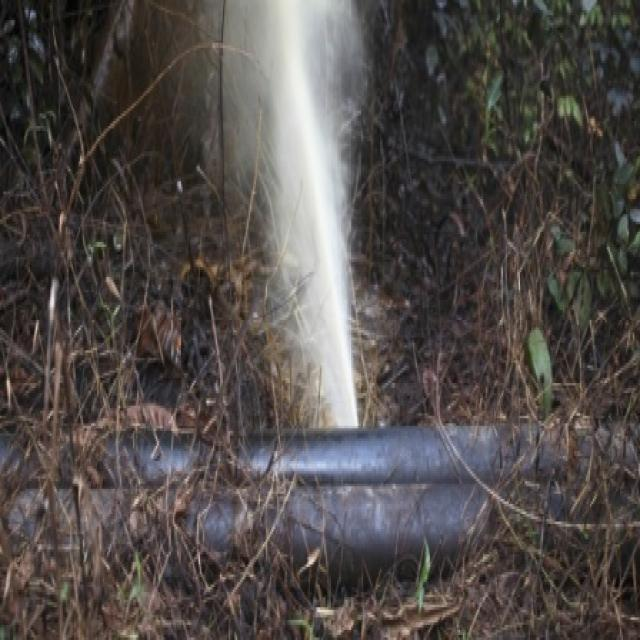leak: (221, 0, 362, 428)
